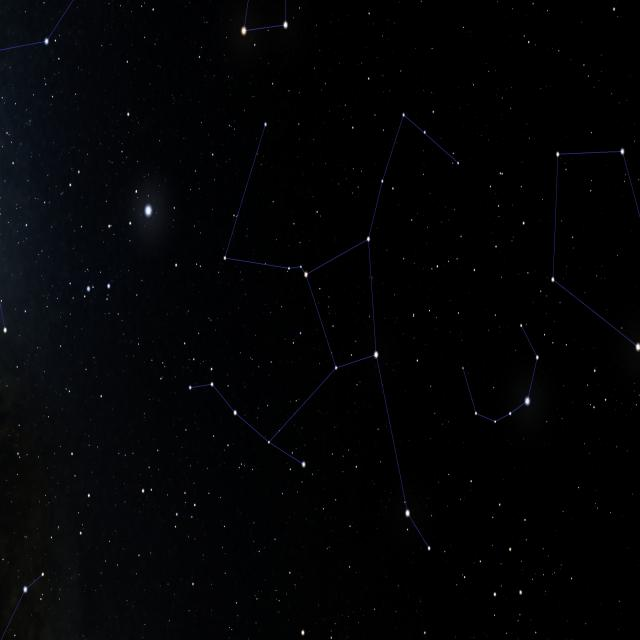Hercules: (187, 110, 461, 555)
